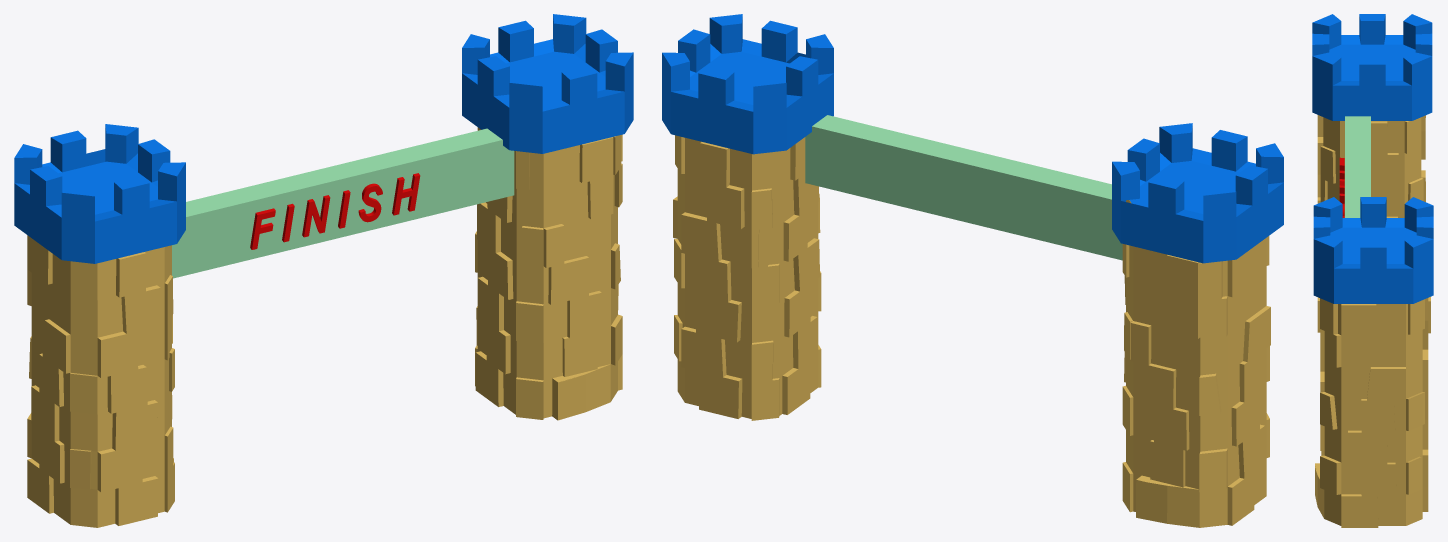
File: finish line1.fbx
3 views of the same model, side by side, from view 1: azimuth 30°, elevation 25°; view 2: azimuth 150°, elevation 25°; view 3: azimuth 270°, elevation 25° (orthographic). The views are drawn at different scales.
Visible parts, largest first — view 1: Text.001; view 2: Text.001; view 3: Text.001.
Boxes of the visible parts, x1,y1,x2,y2 form: Text.001: [14, 14, 633, 527]; Text.001: [662, 14, 1283, 527]; Text.001: [1312, 14, 1433, 527].
Size of the model in its own units: 1128 by 637 by 247.
